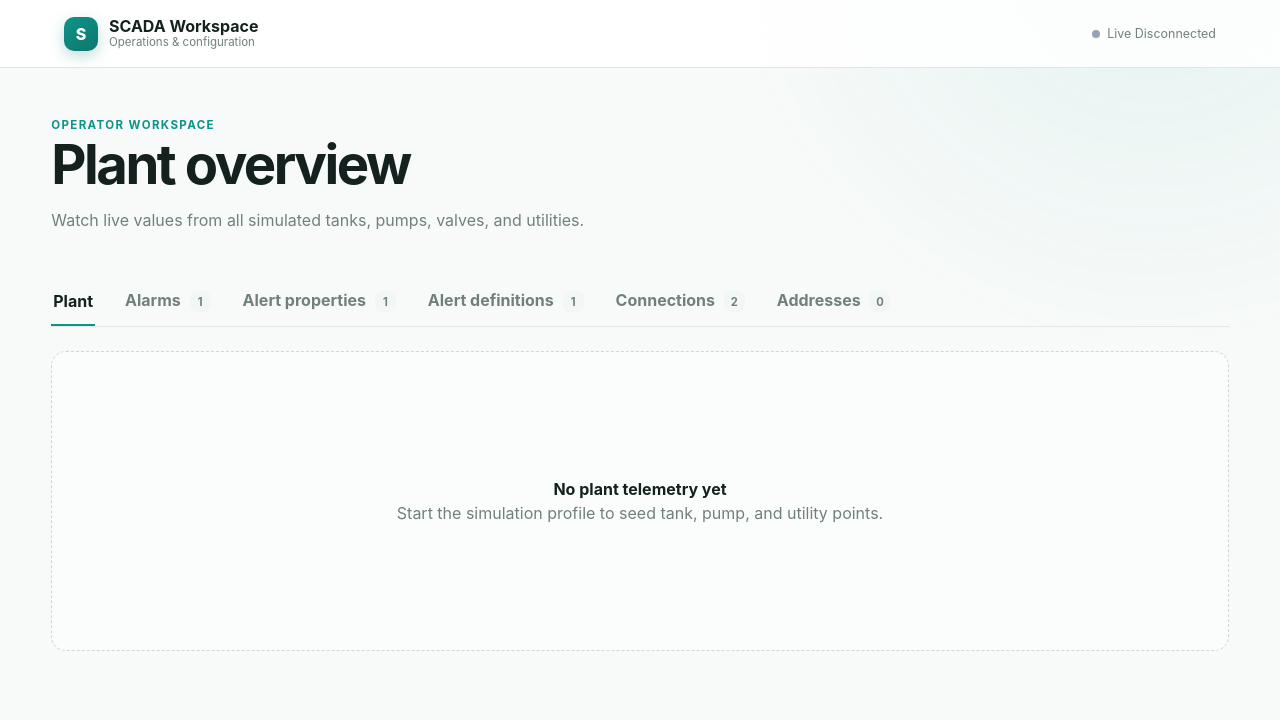
Test case: Modbus Designer › uses enabled connections and enforces register encoding constraints
Click the button "Addresses 0" at (834, 302), box [775,278,892,326]
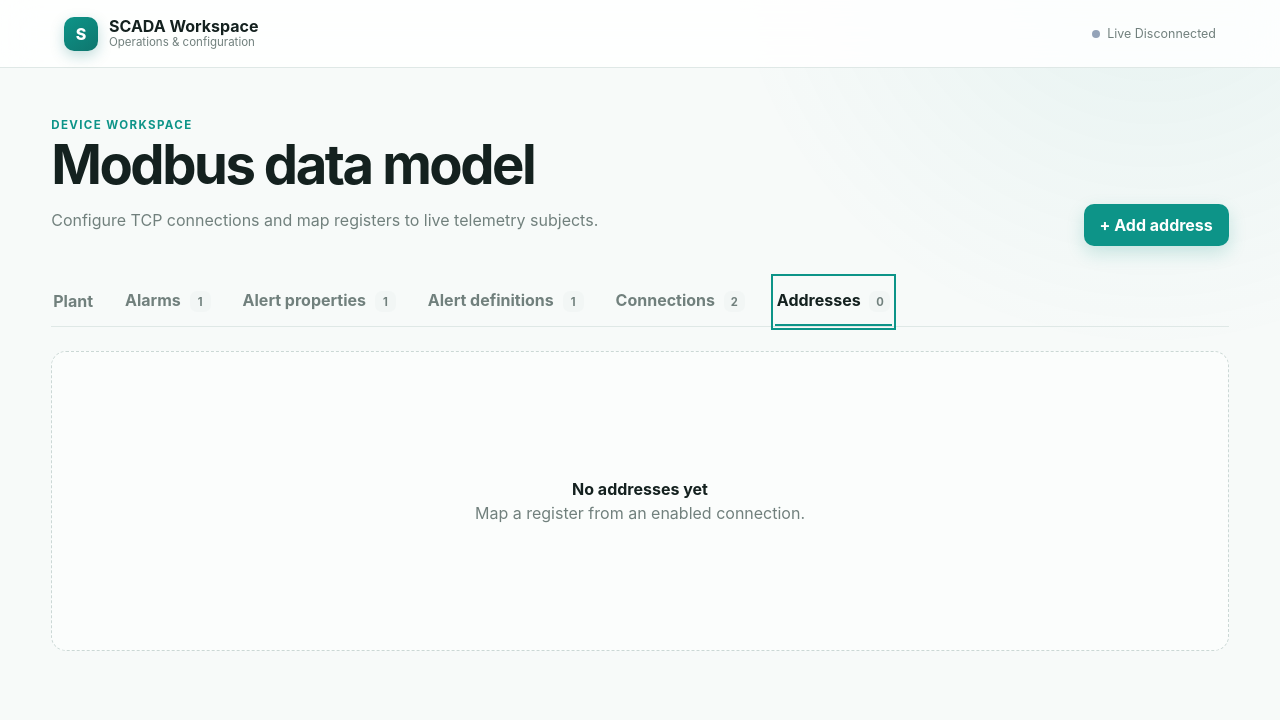
Click the button "+ Add address" at (1156, 225), box [1084,204,1229,246]
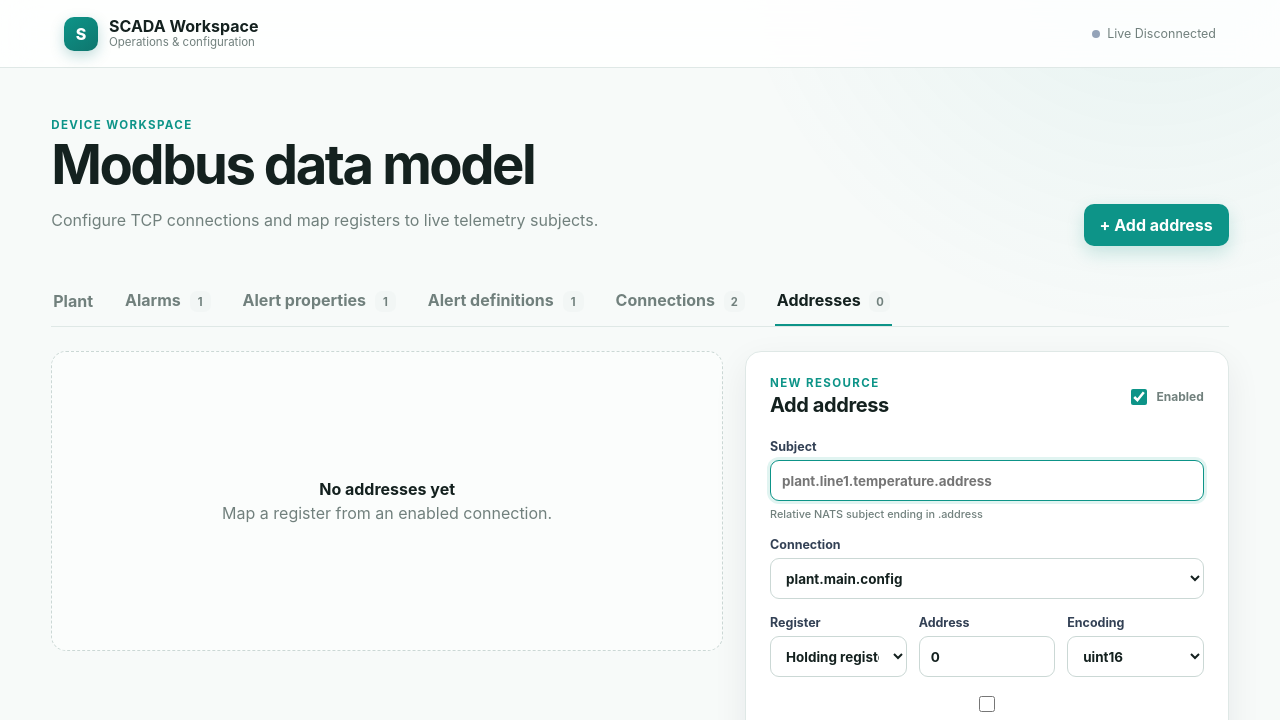
Select "Coil" in the dropdown labelled "Register" at (838, 657), box [770,636,907,677]
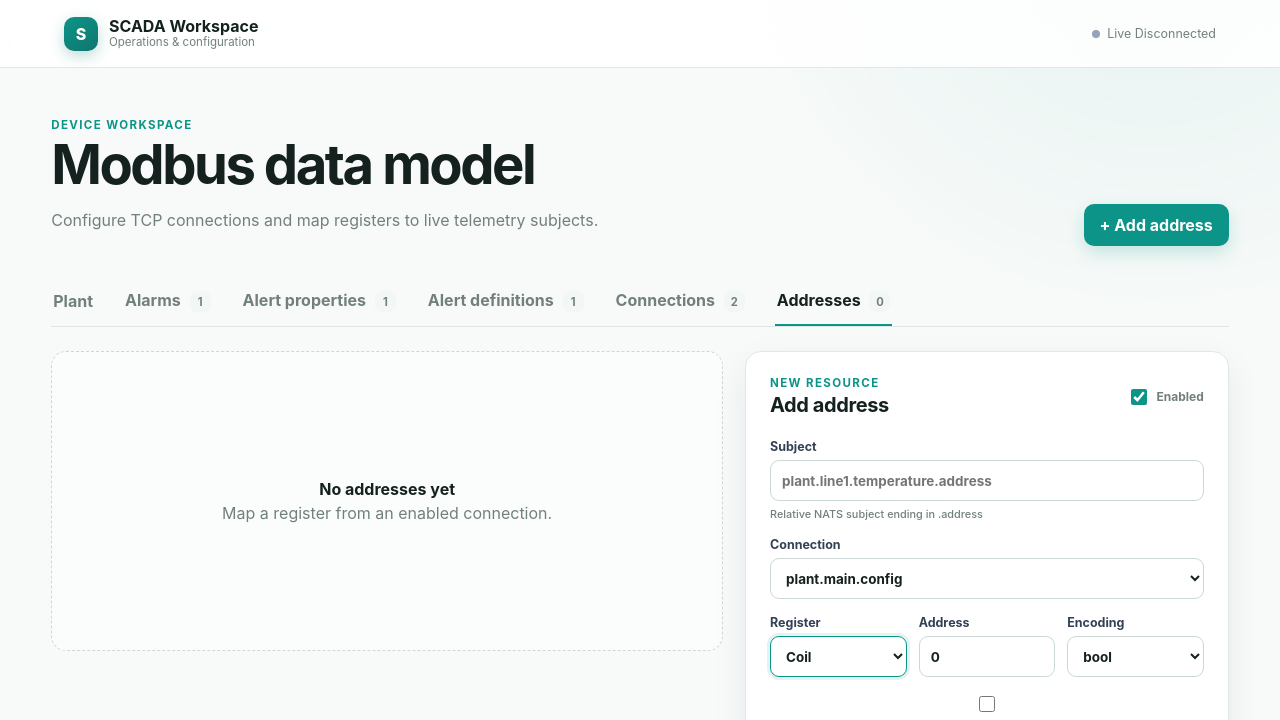
Result: the checkbox labelled "Publish only when value changes" is not checked at [979,696,995,712]
Result: the dropdown labelled "Encoding" shows "bool" at [1067,636,1204,677]
Type "plant.line1.run.address" into the field with placeholder "plant.line1.temperature.address" at (987, 481), box [770,460,1204,501]
(page scrolled)
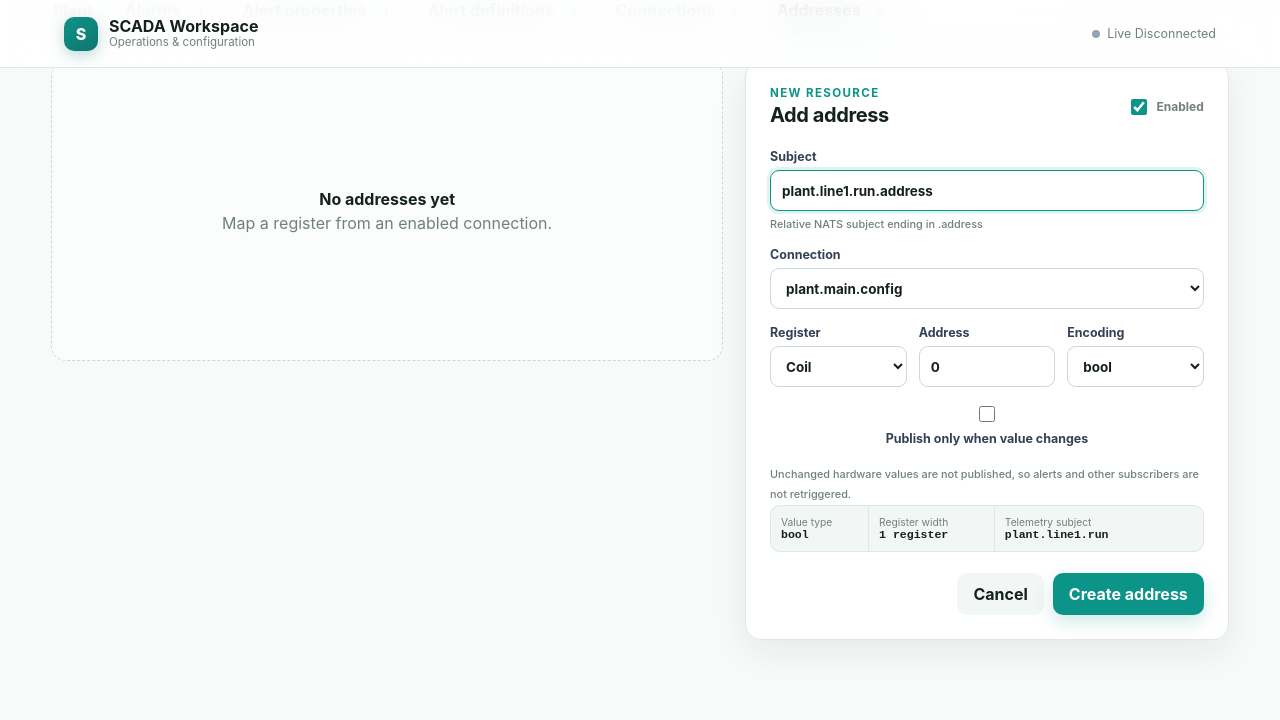
Result: the text "plant.line1.run" is shown at [1005,528,1108,541]
